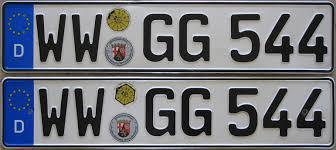4: (262, 11, 299, 65), (295, 11, 332, 64), (293, 85, 329, 139), (260, 85, 293, 138)
5: (225, 10, 263, 64), (224, 87, 261, 137)
G: (140, 86, 177, 138), (176, 12, 213, 63), (179, 87, 215, 138), (140, 13, 175, 63)
W: (38, 87, 70, 138), (74, 87, 106, 137), (35, 13, 67, 62), (71, 14, 103, 63)
